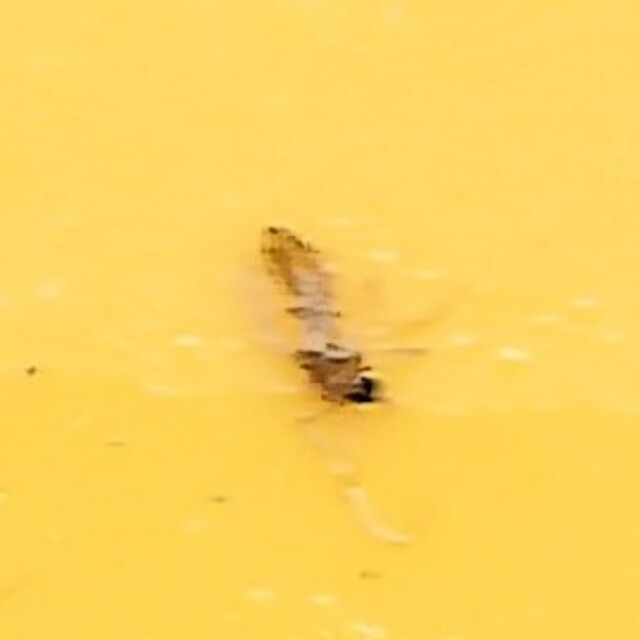Nematocera: (238, 211, 402, 429)
